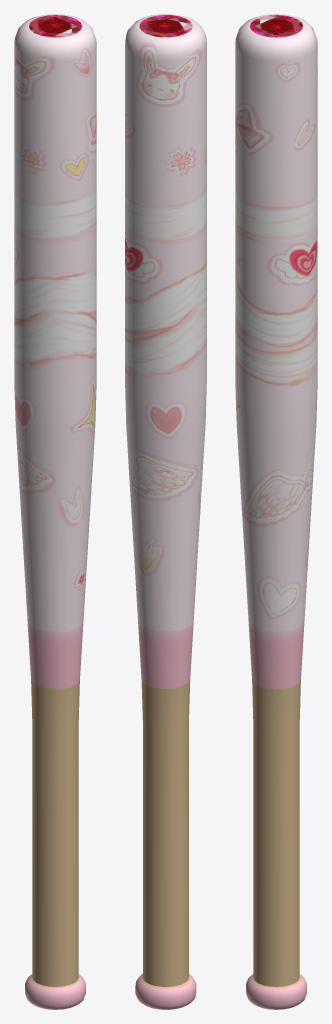
File: MomiBat.fbx
3 renders of one model, left to right at view 1: azimuth 90°, elevation 25°; view 2: azimuth 150°, elevation 25°; view 3: azimuth 270°, elevation 25°, orthographic.
Visible parts, largest first — view 1: PC_BaseBall_Bat_LOD_0.001; view 2: PC_BaseBall_Bat_LOD_0.001; view 3: PC_BaseBall_Bat_LOD_0.001.
Part boxes in pixels (bbox=[...]): PC_BaseBall_Bat_LOD_0.001: bbox=[14, 14, 96, 1009]; PC_BaseBall_Bat_LOD_0.001: bbox=[125, 14, 206, 1009]; PC_BaseBall_Bat_LOD_0.001: bbox=[235, 14, 317, 1009].
Size of what is drawn, in the model's own units: 6.14 by 80 by 6.14.
1 material, 1 textured.
